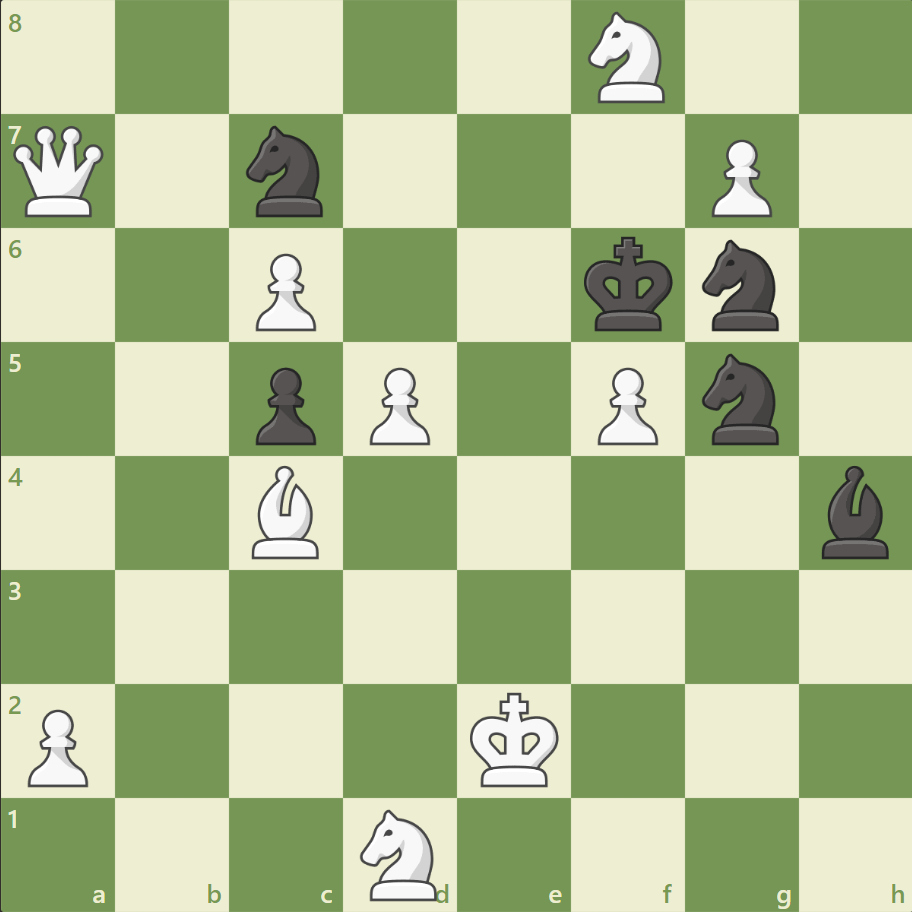B: (244, 460, 328, 563)
K: (465, 685, 565, 793)
N: (351, 802, 449, 904), (579, 7, 676, 110)
P: (701, 132, 776, 223), (247, 246, 322, 337), (20, 700, 95, 791), (361, 359, 435, 450), (588, 359, 662, 450)
Q: (10, 122, 109, 222)
b: (812, 460, 896, 563)
k: (579, 231, 679, 339)
n: (692, 234, 789, 337), (238, 121, 335, 223), (692, 348, 789, 450)
p: (247, 359, 322, 450)
